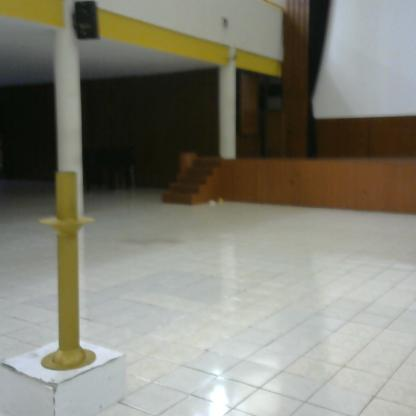pole: (35, 164, 101, 376)
